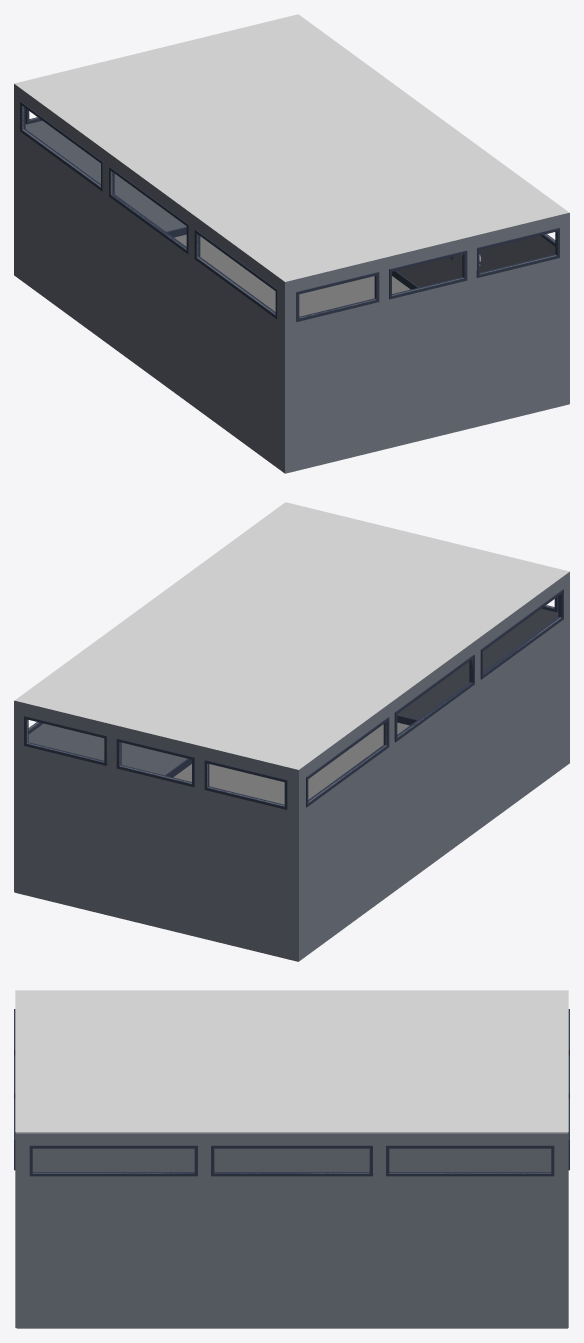
File: Room.fbx
3 views of the same model, one above another, from view 1: azimuth 30°, elevation 25°; view 2: azimuth 150°, elevation 25°; view 3: azimuth 270°, elevation 25° (orthographic). The views are drawn at different scales.
Parts seen in each view (by area): view 1: room; view 2: room; view 3: room.
Part boxes in pixels (x1,y1,x2,y2): room: (14, 14, 569, 473); room: (14, 502, 569, 961); room: (14, 990, 569, 1328).
Size of the model in its own units: 1420 by 908 by 2330.
